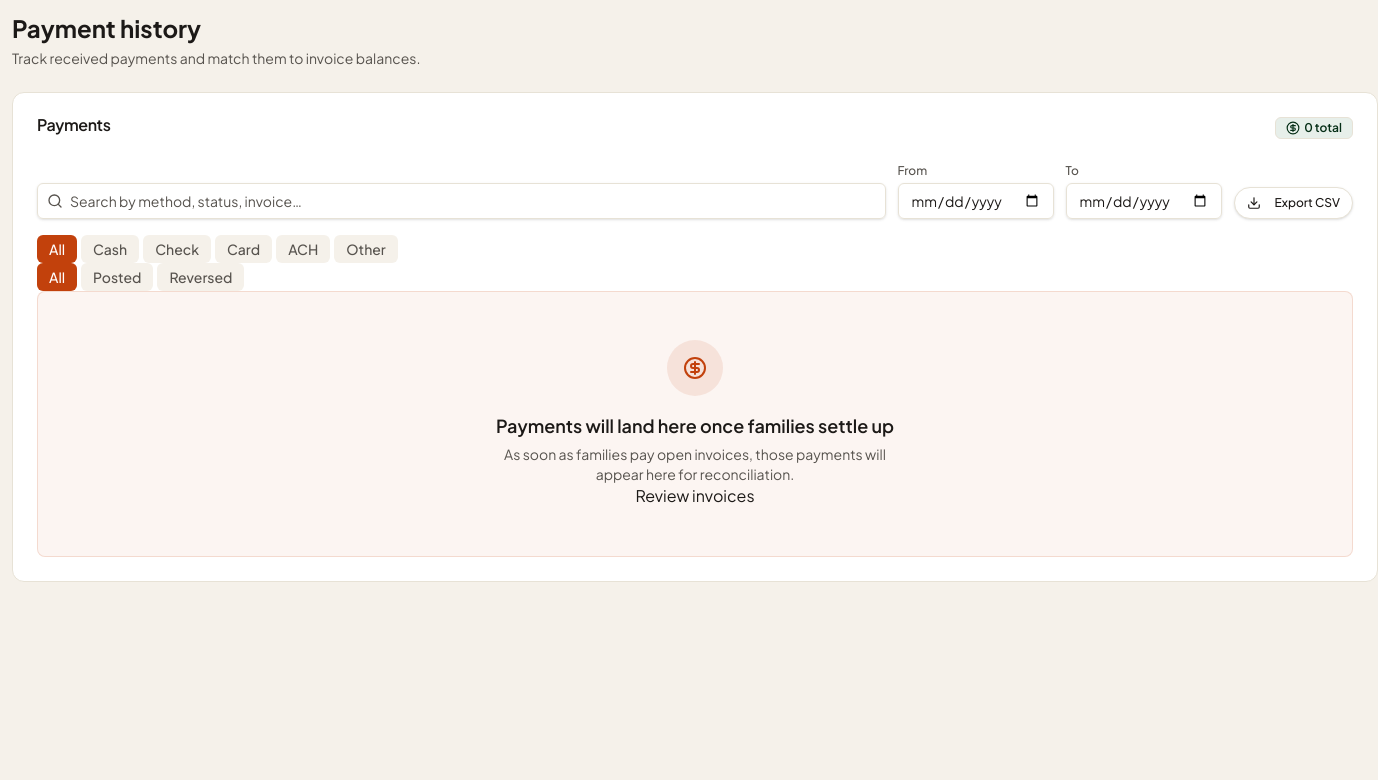
Test: BillingPaymentsPage — UI rendering › shows no-results empty state when filters are active but server returned no data
This screenshot has width=1378, height=780.
// Activate a filter so hasActiveFilters is true
Click the button "Cash" at (110,249), box [81,235,139,263]
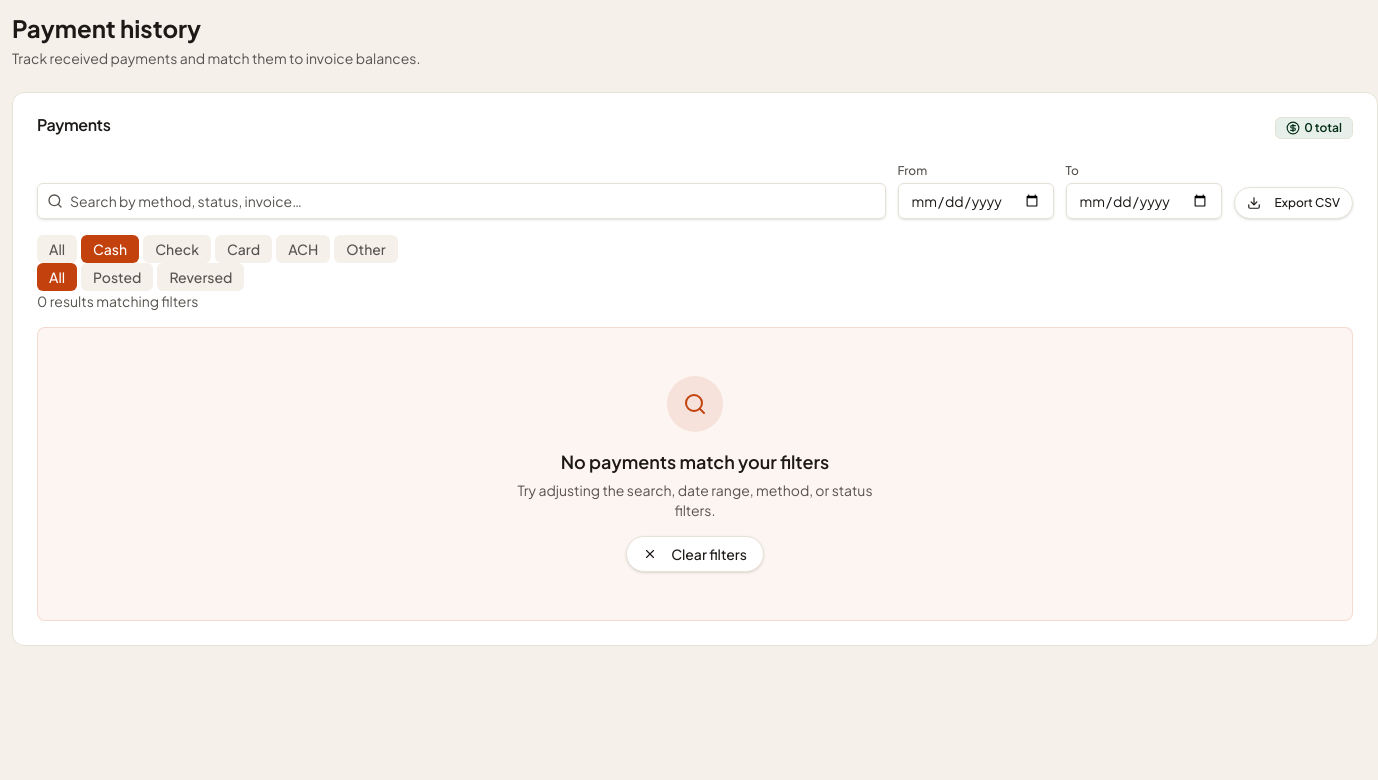
Check: the heading "No payments match your filters" is shown, box [561,448,829,476]
